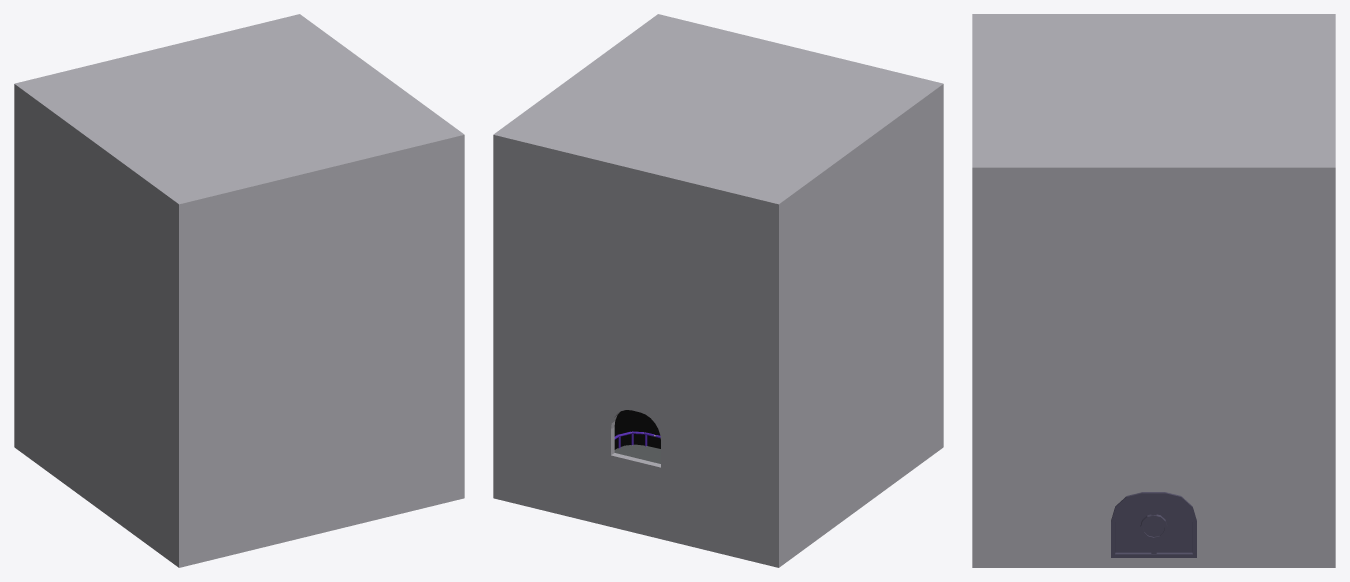
The model's file is LAB.fbx.
3 views of the same model, side by side, from view 1: azimuth 30°, elevation 25°; view 2: azimuth 150°, elevation 25°; view 3: azimuth 270°, elevation 25° (orthographic). The views are drawn at different scales.
Parts seen in each view (by area): view 1: Cube.009; view 2: Cube.009, Cylinder.087; view 3: Cube.009, Cube.038, Cube.039.
Part boxes in pixels (x1,y1,x2,y2): Cube.009: (14, 14, 464, 567); Cube.009: (493, 14, 943, 567); Cylinder.087: (614, 431, 660, 463); Cube.009: (972, 14, 1335, 567); Cube.038: (1140, 492, 1196, 557); Cube.039: (1111, 492, 1153, 557).
Bounding box in the file's own units: 5050 × 6082 × 5000.
